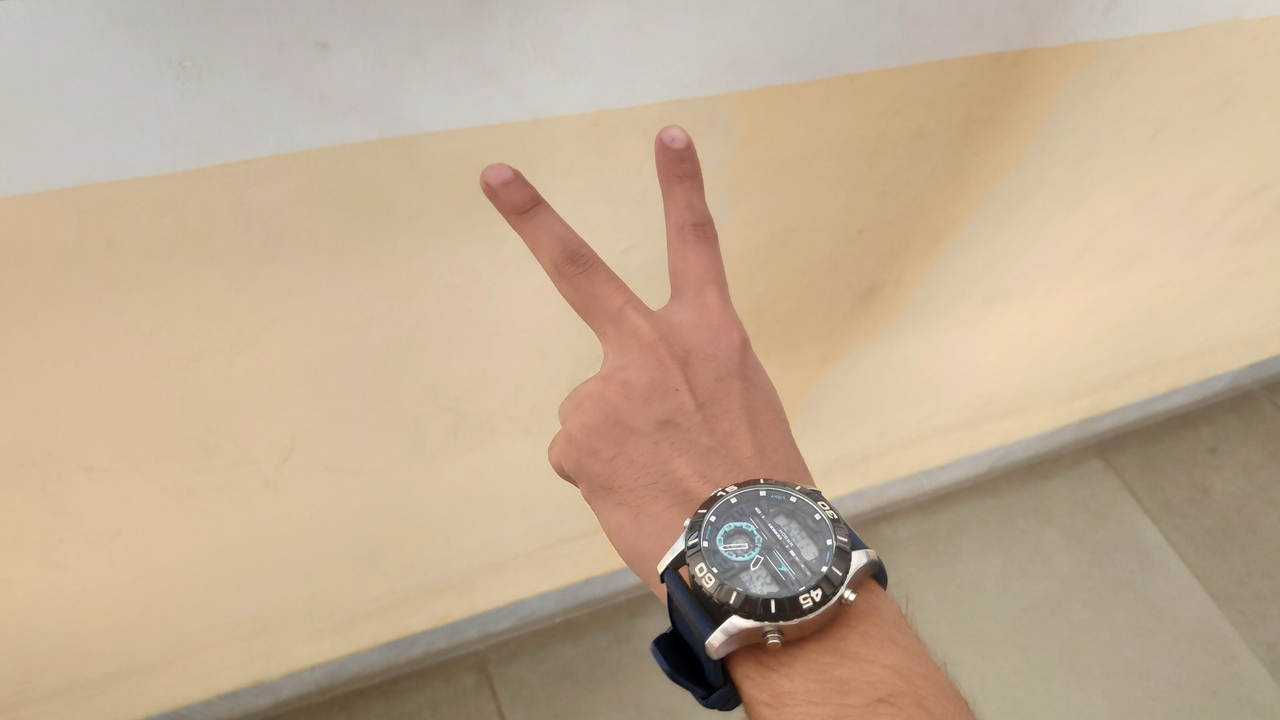fingertip: (468, 154, 538, 208), (646, 114, 706, 166)
